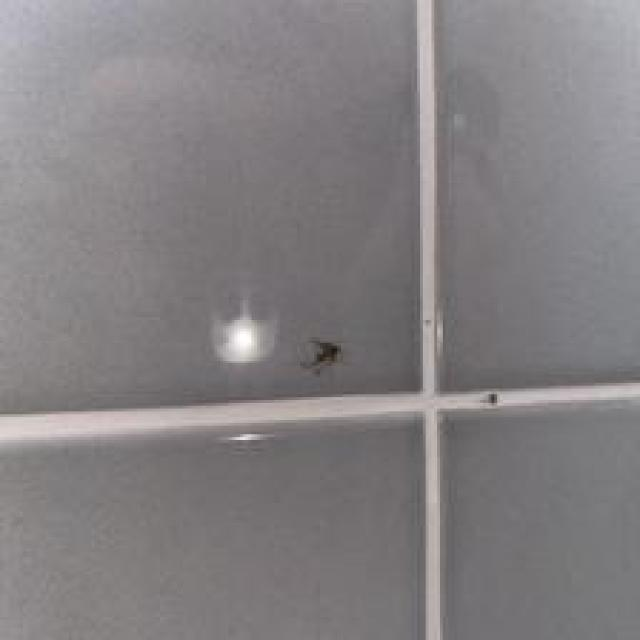Culex: (300, 336, 343, 376)
